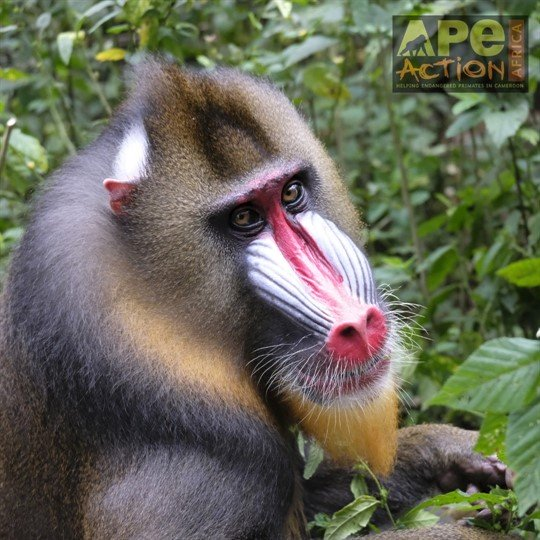Mandrill: (15, 88, 422, 515)
